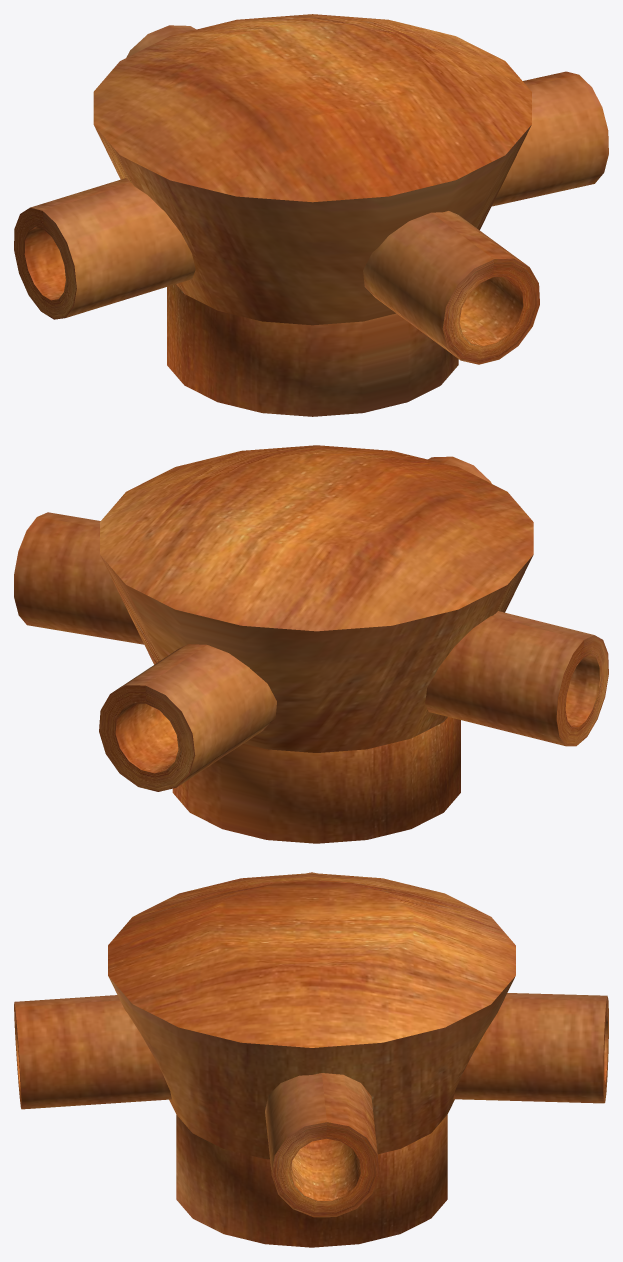
The model's file is Torre 4 Cañones.FBX.
3 renders of one model, top to bottom at view 1: azimuth 30°, elevation 25°; view 2: azimuth 150°, elevation 25°; view 3: azimuth 270°, elevation 25°, orthographic. The views are drawn at different scales.
Parts seen in each view (by area): view 1: Cylinder001; view 2: Cylinder001; view 3: Cylinder001.
Boxes of the visible parts, box(x1,y1,x2,y2) form: Cylinder001: box(14, 14, 608, 416); Cylinder001: box(14, 445, 608, 843); Cylinder001: box(14, 872, 608, 1247).
Size of the model in its own units: 290 by 144 by 294.
